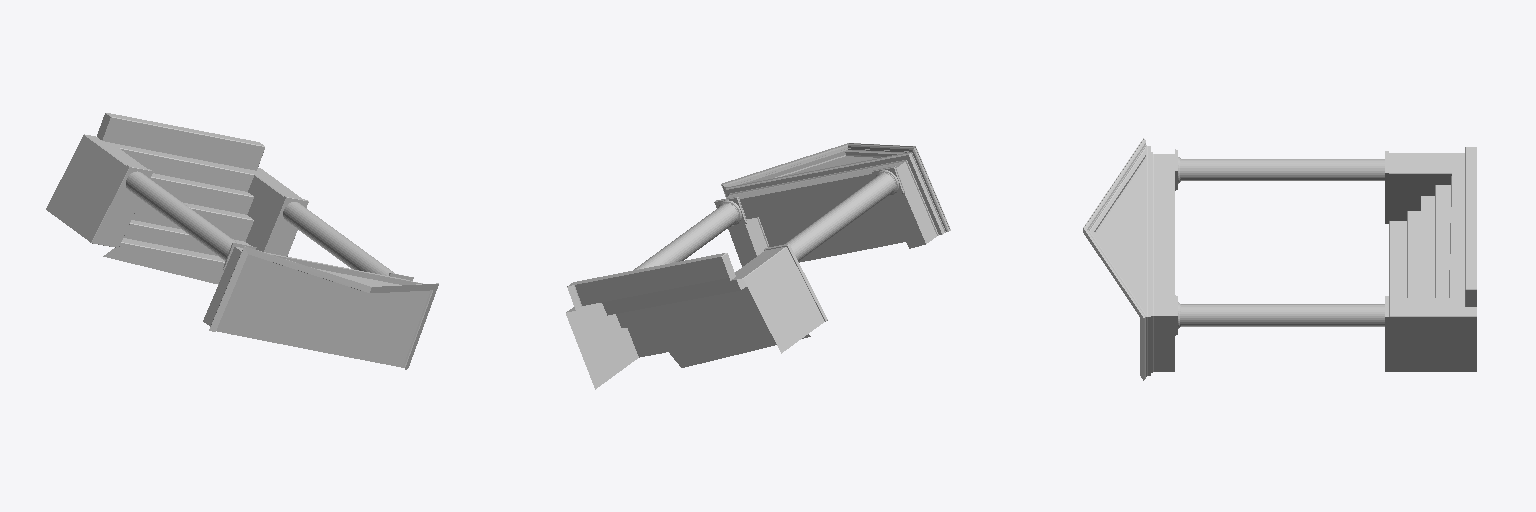
The model's file is entree.obj.
The picture shows the model from 3 angles: view 1: azimuth 30°, elevation 25°; view 2: azimuth 150°, elevation 25°; view 3: azimuth 270°, elevation 25°; orthographic projection.
Parts seen in each view (by area): view 1: RESTIT.100-101.002_RETOPO.010, 01.RESTIT.corniche_Mesh.010, RdC.RESTIT.004_RETOPO.048, 01.RESTIT.fronton.001_Mesh.012, 01.RESTIT.colonne.fut, 01.RESTIT.colonne.fut.001_01.RESTIT.colonne.fut, 01.RESTIT.architrave_parcours_CUCurve.000; view 2: RESTIT.100-101.002_RETOPO.010, 01.RESTIT.architrave_parcours_CUCurve.000, 01.RESTIT.corniche_Mesh.010, 01.RESTIT.fronton.001_Mesh.012, 01.RESTIT.colonne.fut, 01.RESTIT.colonne.fut.001_01.RESTIT.colonne.fut; view 3: RESTIT.100-101.002_RETOPO.010, 01.RESTIT.fronton.001_Mesh.012, 01.RESTIT.architrave_parcours_CUCurve.000, 01.RESTIT.colonne.fut.001_01.RESTIT.colonne.fut, 01.RESTIT.colonne.fut, 01.RESTIT.corniche_Mesh.010, RdC.RESTIT.004_RETOPO.048.
Boxes of the visible parts, <box> form: RESTIT.100-101.002_RETOPO.010: <box>46,113,301,284</box>; 01.RESTIT.corniche_Mesh.010: <box>216,254,430,367</box>; RdC.RESTIT.004_RETOPO.048: <box>89,165,308,256</box>; 01.RESTIT.fronton.001_Mesh.012: <box>209,246,438,369</box>; 01.RESTIT.colonne.fut: <box>126,171,236,260</box>; 01.RESTIT.colonne.fut.001_01.RESTIT.colonne.fut: <box>283,202,394,275</box>; 01.RESTIT.architrave_parcours_CUCurve.000: <box>203,247,409,334</box>; RESTIT.100-101.002_RETOPO.010: <box>566,247,824,389</box>; 01.RESTIT.architrave_parcours_CUCurve.000: <box>727,160,938,266</box>; 01.RESTIT.corniche_Mesh.010: <box>724,152,945,262</box>; 01.RESTIT.fronton.001_Mesh.012: <box>721,143,950,231</box>; 01.RESTIT.colonne.fut: <box>786,170,898,260</box>; 01.RESTIT.colonne.fut.001_01.RESTIT.colonne.fut: <box>633,200,741,270</box>; RESTIT.100-101.002_RETOPO.010: <box>1389,147,1476,371</box>; 01.RESTIT.fronton.001_Mesh.012: <box>1083,138,1145,380</box>; 01.RESTIT.architrave_parcours_CUCurve.000: <box>1151,152,1174,372</box>; 01.RESTIT.colonne.fut.001_01.RESTIT.colonne.fut: <box>1178,302,1384,328</box>; 01.RESTIT.colonne.fut: <box>1178,157,1384,183</box>; 01.RESTIT.corniche_Mesh.010: <box>1146,145,1150,376</box>; RdC.RESTIT.004_RETOPO.048: <box>1385,151,1388,371</box>.
Size of the model in its own units: 3.98 by 2.78 by 5.9.